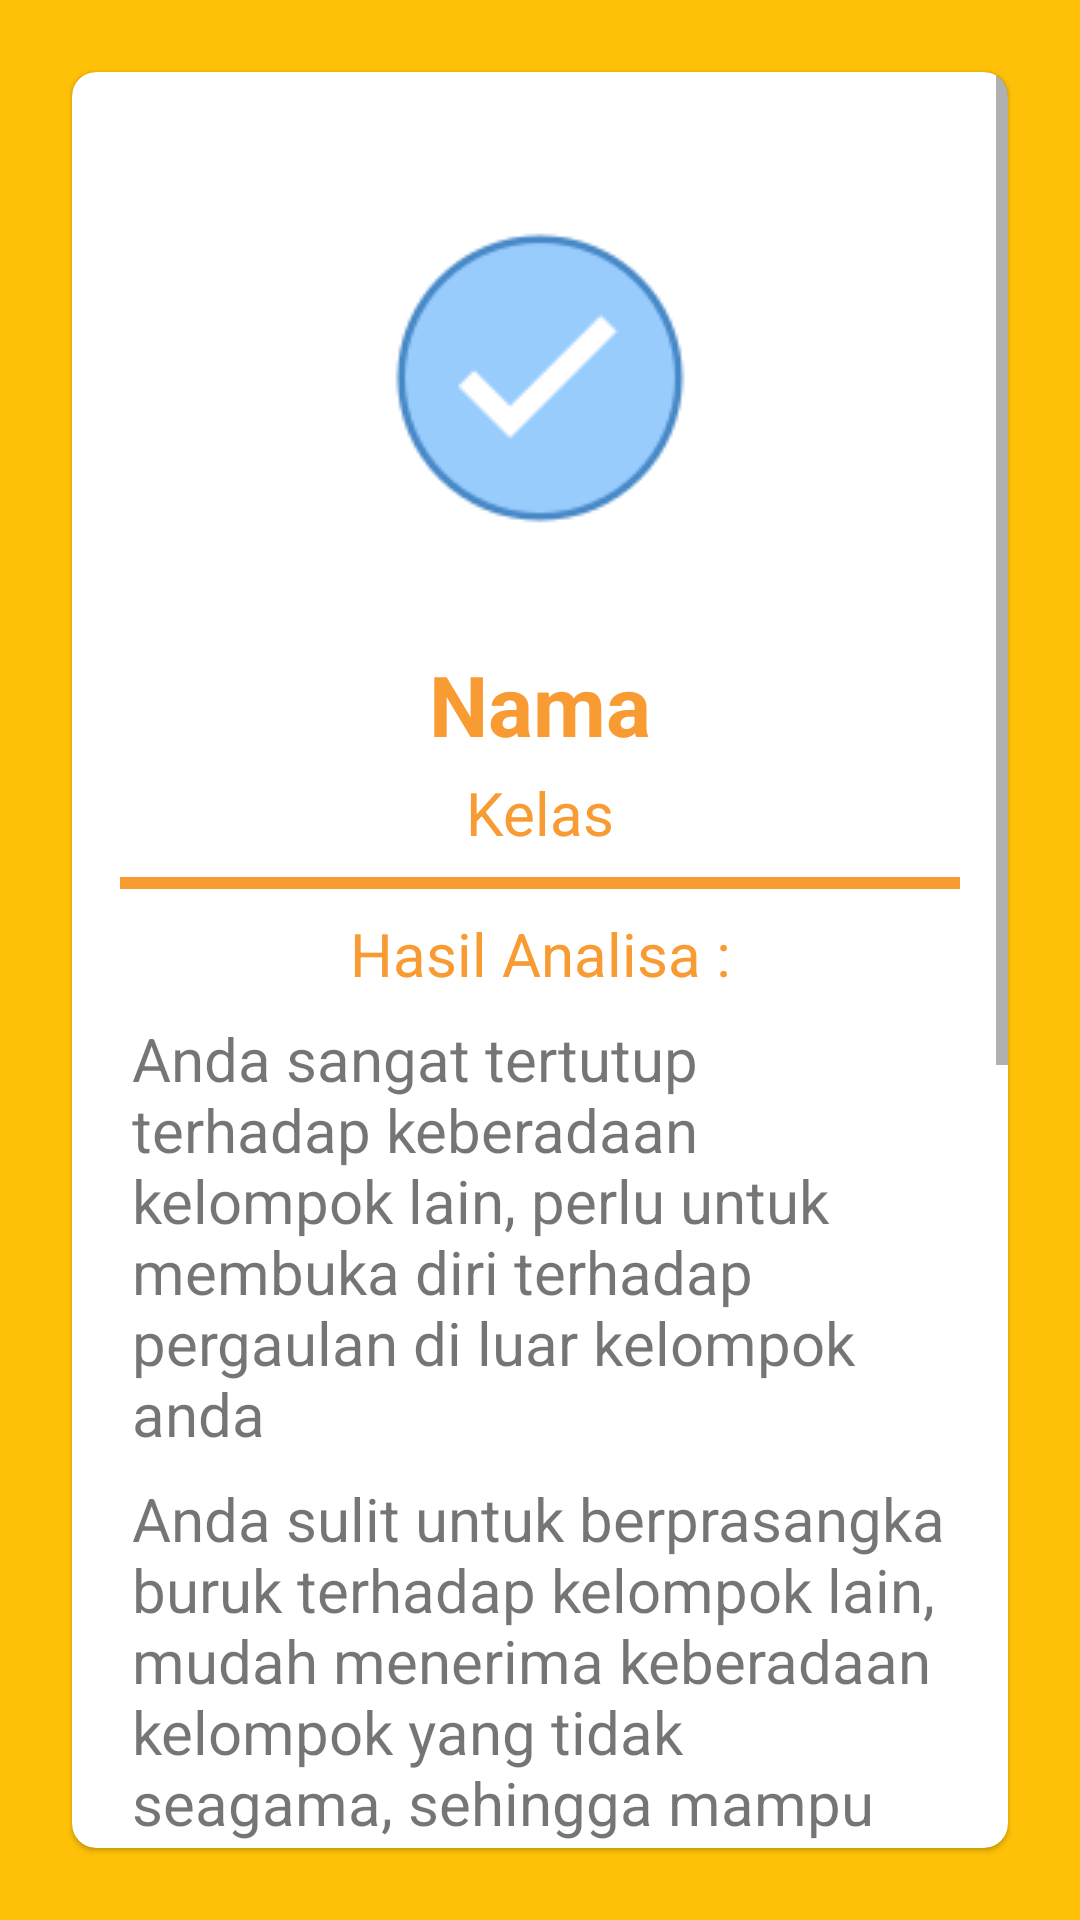

Screen size 1080×1920. Icon name, then its center in pixels as point (x, y):
checked: point (540, 378)
